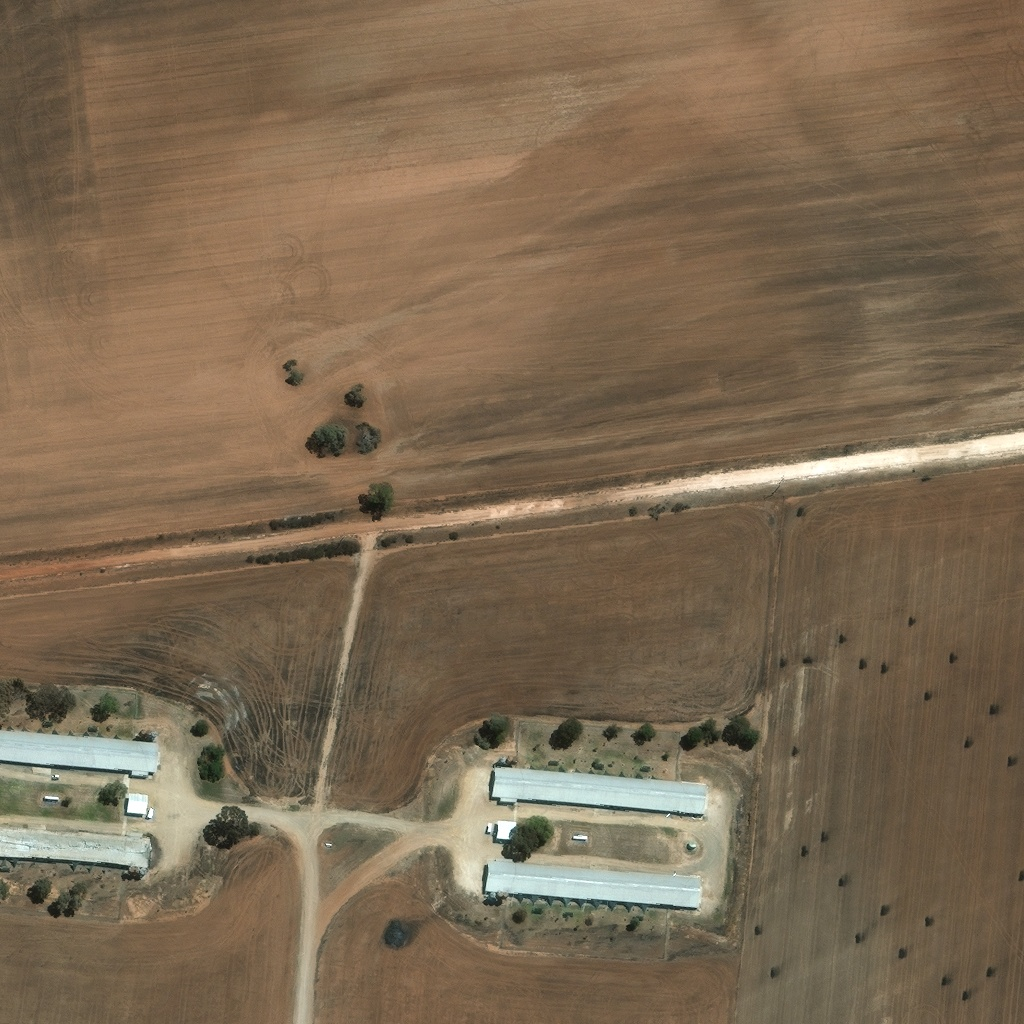0 no-damage: (485, 857, 700, 906), (491, 767, 708, 811), (0, 826, 151, 866), (128, 791, 148, 813), (497, 820, 517, 841), (34, 765, 52, 772), (574, 833, 590, 838), (689, 838, 697, 847), (150, 806, 156, 817), (46, 793, 60, 797), (145, 732, 153, 739), (490, 893, 498, 900), (497, 894, 504, 901), (140, 731, 146, 739), (506, 759, 513, 765), (152, 733, 159, 739), (141, 868, 148, 874), (129, 869, 137, 874), (500, 758, 506, 764), (136, 869, 143, 874)
